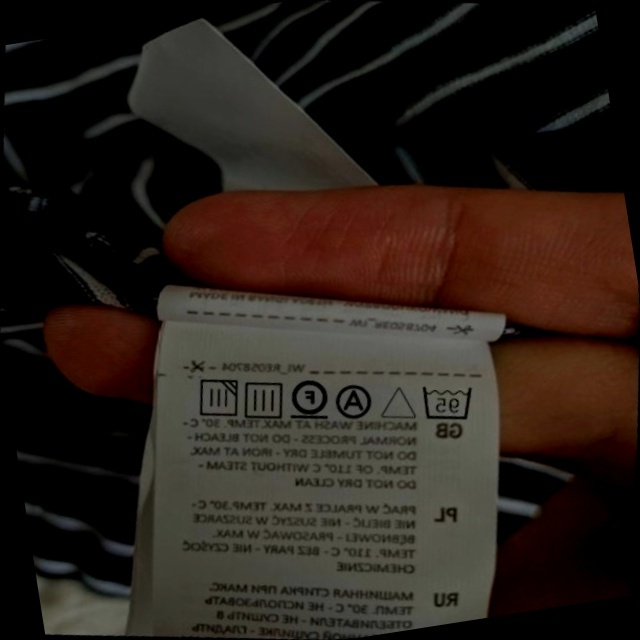95C: (413, 374, 480, 429)
bleach: (376, 376, 422, 427)
drip_dry: (236, 372, 291, 426)
drip_dry_in_shade: (187, 370, 245, 426)
dry_clean: (330, 377, 379, 425)
dry_clean_petrol_only: (283, 369, 335, 426)
